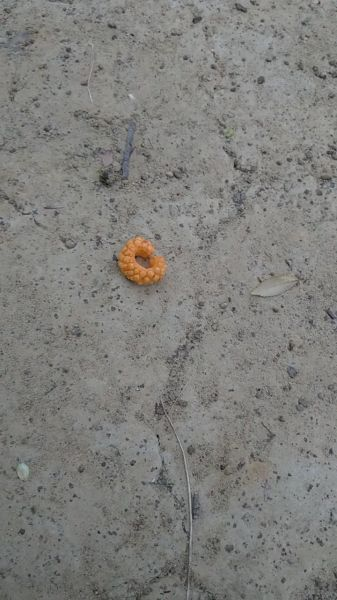eggs: (115, 233, 168, 288)
